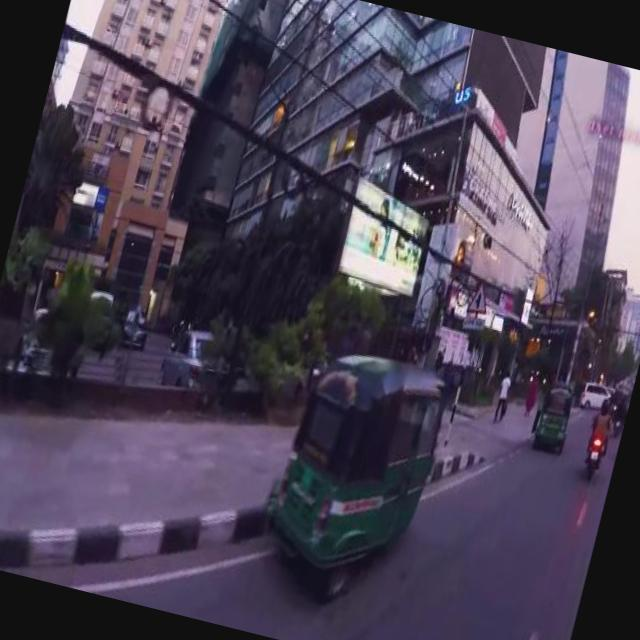car: (157, 320, 235, 390), (116, 300, 152, 346)
motorcycle: (251, 336, 454, 600), (531, 374, 578, 444), (578, 408, 614, 478)
truck: (576, 376, 610, 410)
